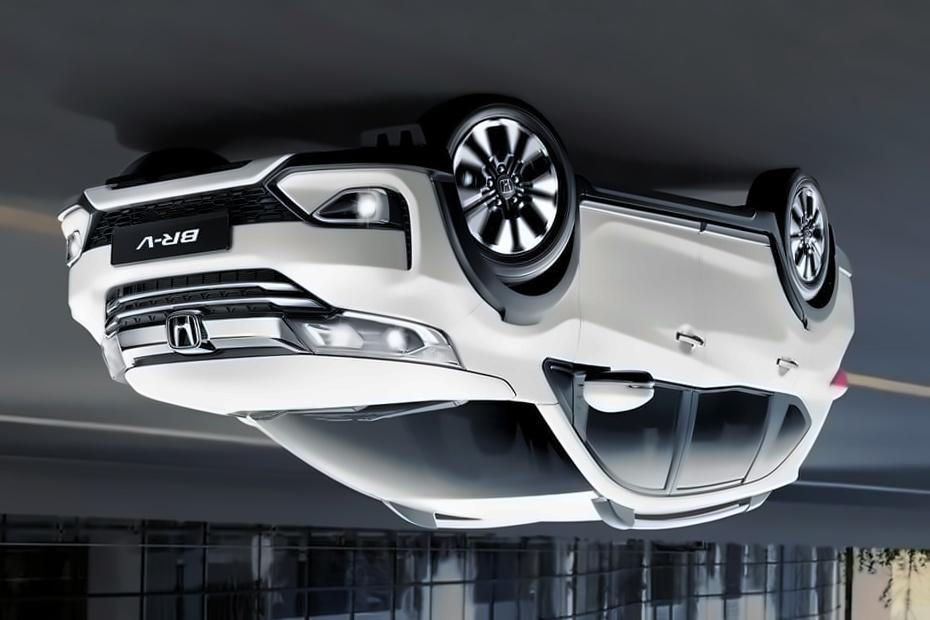Car hood: (114, 365, 524, 418)
Driver-s door - -F-R-: (566, 198, 707, 512)
Fender - -F-R-: (414, 160, 592, 376)
Fender - -R-R-: (769, 236, 870, 373)
Front bumper: (30, 136, 450, 299)
Headlight - -L-: (90, 329, 140, 386)
Headlight - -R-: (272, 298, 463, 372)
Passenger-s door - -R-R-: (685, 227, 808, 495)
Rear bumper: (820, 236, 878, 287)
Rear light - -R-: (818, 354, 867, 419)
Side bumper - -R-: (566, 177, 816, 238)
Side mirror - -R-: (574, 346, 663, 432)
